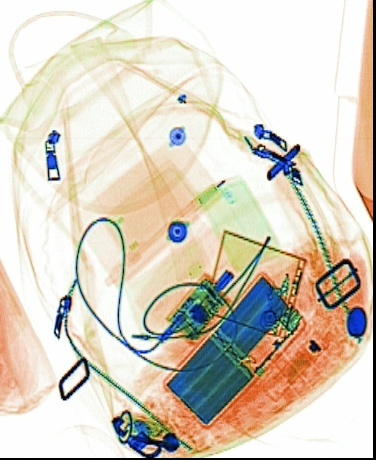powerbank: (163, 268, 305, 430)
